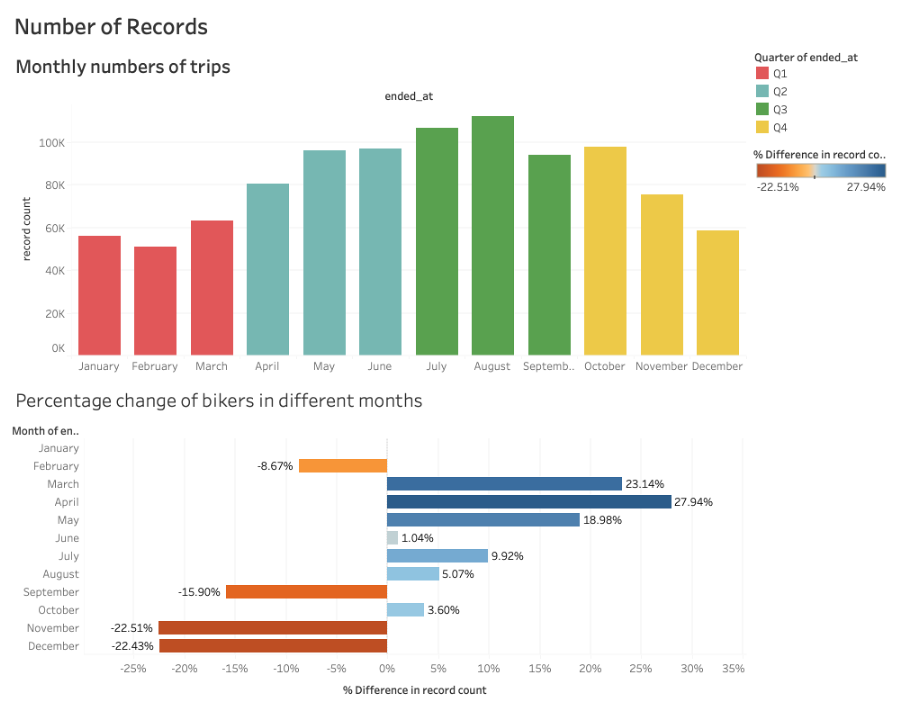

The dashboard page shown, as its layout file describes it:
{"tool":"tableau","page":{"name":"number of records","canvas":[1000,800],"ordinal":3},"visuals":[{"type":"title","box":[8,8,984,41]},{"type":"worksheet","title":"number of trips","mark":"Bar","rows":["Calculation_1632625244878168067"],"cols":["ended_at"],"box":[8,49,824,371.5]},{"type":"legend","title":"number of trips","param":"[federated.15jcs160k327vz147ii350szdhfd].[qr:ended_at:ok]","box":[832,49,160,106]},{"type":"legend","title":"percentage change","param":"[federated.15jcs160k327vz147ii350szdhfd].[pcdf:sum:Calculation_16326252448781680","box":[832,155,160,65]},{"type":"worksheet","title":"percentage change","mark":"Bar","rows":["ended_at"],"cols":["Calculation_1632625244878168067"],"box":[8,420.5,824,371.5]}]}

Visuals, with their boxes in screenshot pixels (x1, y1, x2, y2), scaled from the page's 1000x800 canvas onto the 901x720 screenshot:
title: bbox(7, 7, 894, 44)
"number of trips" worksheet (Bar marks): bbox(7, 44, 750, 378)
"number of trips" legend: bbox(750, 44, 894, 140)
"percentage change" legend: bbox(750, 140, 894, 198)
"percentage change" worksheet (Bar marks): bbox(7, 378, 750, 713)
